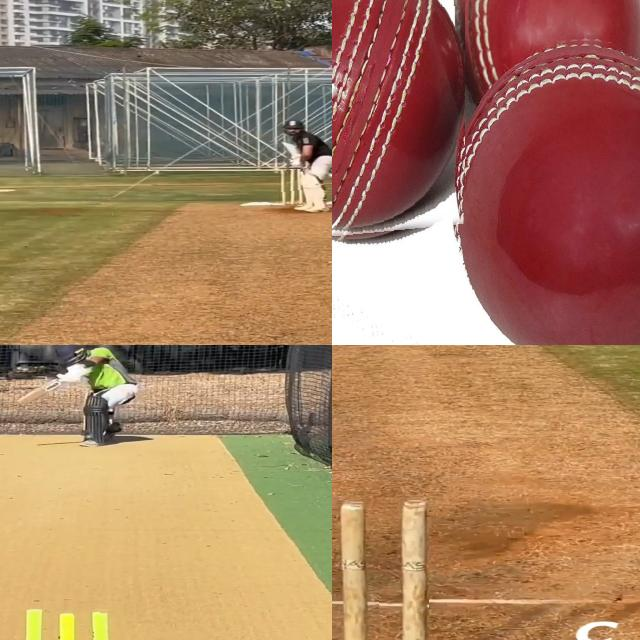Cricket ball: (446, 34, 640, 345), (332, 0, 465, 245)
Stumps: (332, 500, 429, 640), (5, 603, 138, 640), (280, 169, 303, 208)
